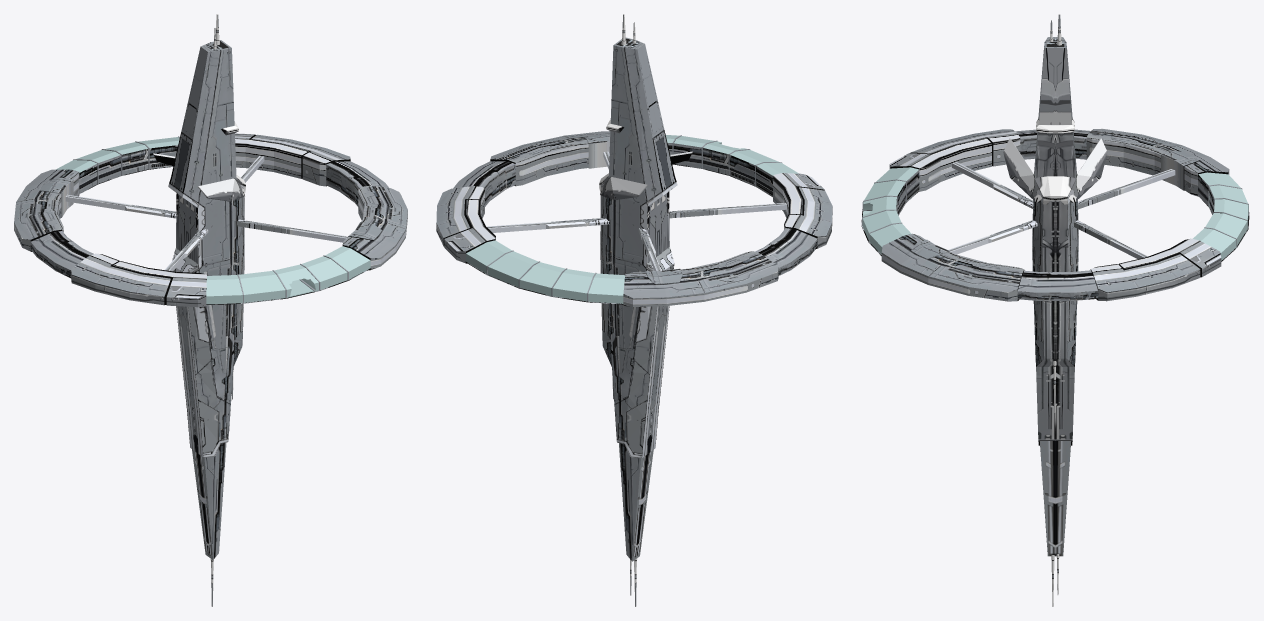
Rendered from stesen angkasa latest.fbx.
3 views of the same model, side by side, from view 1: azimuth 30°, elevation 25°; view 2: azimuth 150°, elevation 25°; view 3: azimuth 270°, elevation 25° (orthographic).
Parts seen in each view (by area): view 1: Stesen Angkasa; view 2: Stesen Angkasa; view 3: Stesen Angkasa.
Boxes of the visible parts, x1,y1,x2,y2 form: Stesen Angkasa: (14, 14, 407, 606); Stesen Angkasa: (436, 14, 832, 606); Stesen Angkasa: (861, 14, 1249, 606).
Bounding box in the file's own units: 69896 × 118624 × 69932.
